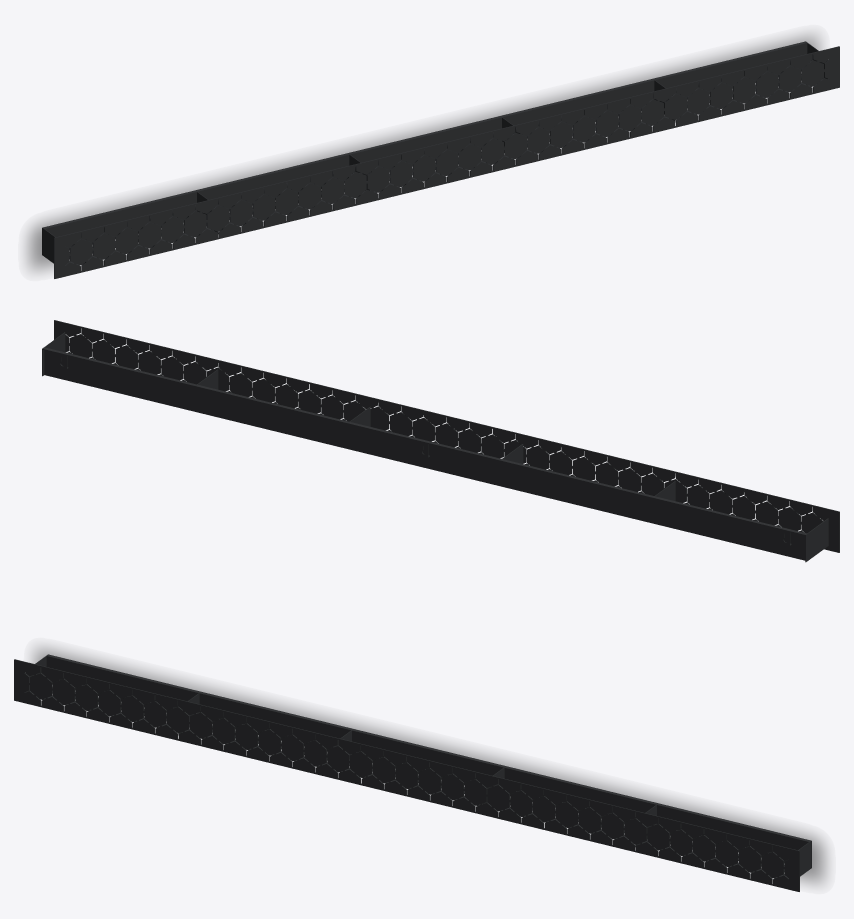
File: bee-mono.70bcaf59d1.ar.glb
3 views of the same model, one above another, from view 1: azimuth 30°, elevation 25°; view 2: azimuth 150°, elevation 25°; view 3: azimuth 330°, elevation 25° (orthographic).
Visible parts, largest first — view 1: NAUO1, object 2; view 2: NAUO1; view 3: NAUO1, object 2.
Boxes of the visible parts, box(x1,y1,x2,y2) form: NAUO1: box(42, 41, 839, 278); object 2: box(26, 34, 821, 271); NAUO1: box(42, 320, 839, 562); NAUO1: box(14, 654, 811, 891); object 2: box(32, 647, 827, 884).
Bounding box in the file's own units: 1.88 × 0.17 × 0.092.
2 materials, 1 textured.
